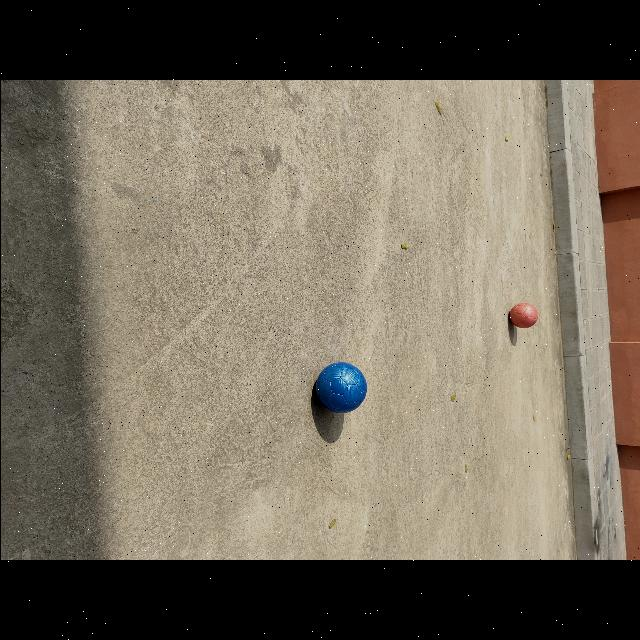B: (314, 362, 365, 413)
R: (508, 302, 537, 328)
